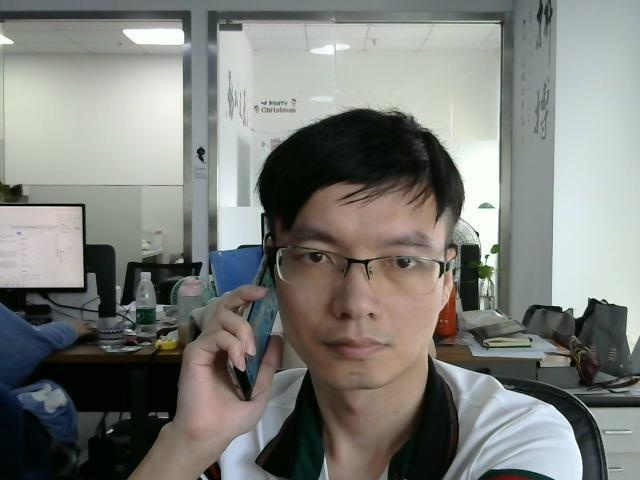hand: (183, 284, 278, 425)
